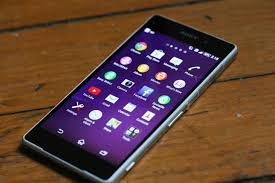sony: (16, 9, 240, 183)
